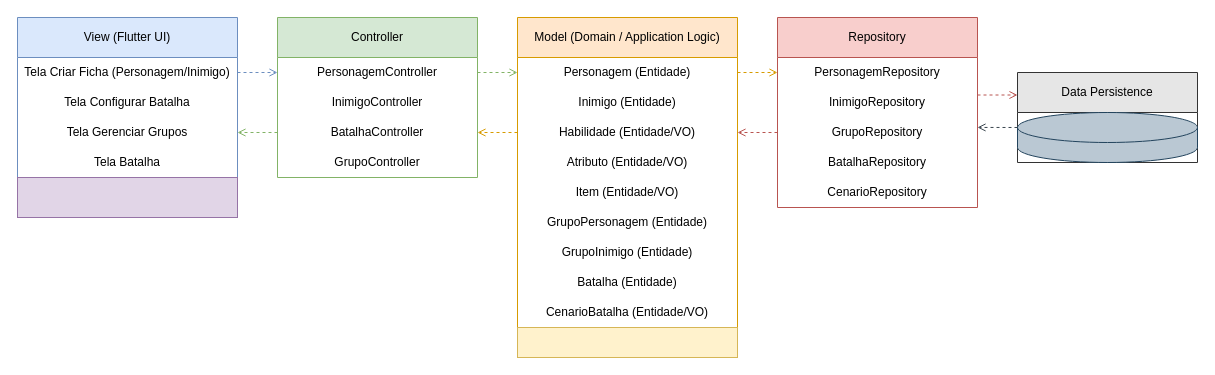
Image size: 1215x375. Some labels were removed from this diagram. The shapes that lost their labels are listed below. From the top down, each one's centre as x and y in pixels, then its label:
At point 1107,137: "SQLite Database".
At point 127,197: "UI Framework (Flutter Widgets & State Management)".
At point 627,342: "ServiçoBatalha (Application Service)".
